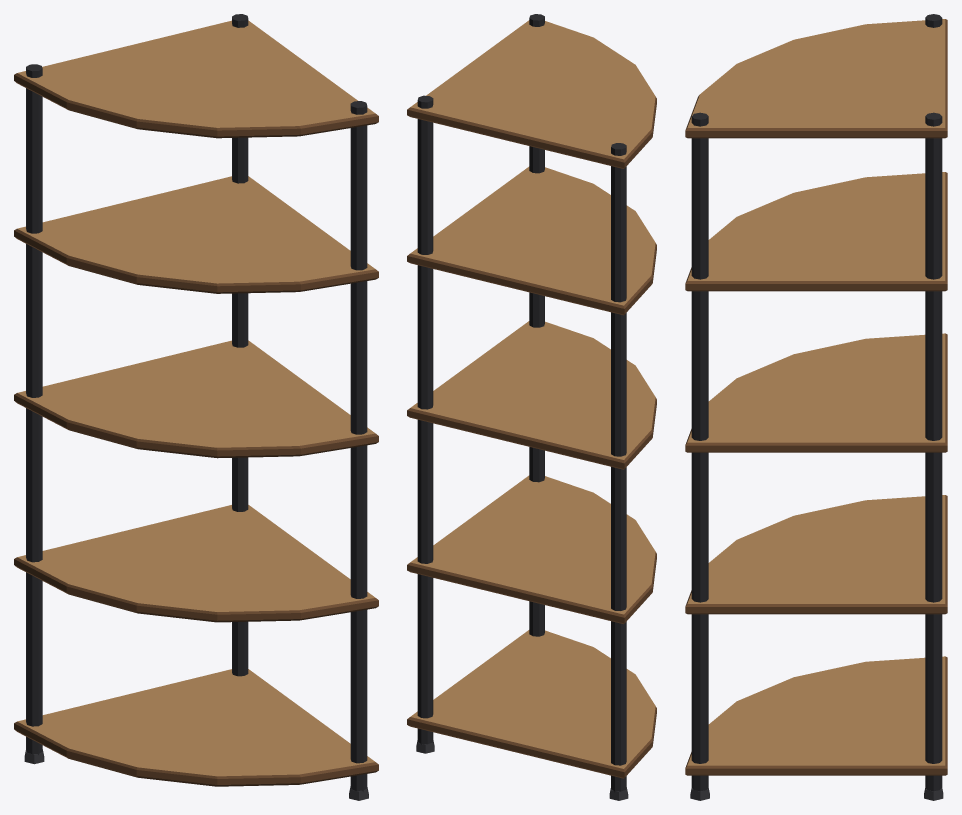
File: FN_Shelf_Corner.obj
3 renders of one model, left to right at view 1: azimuth 30°, elevation 25°; view 2: azimuth 150°, elevation 25°; view 3: azimuth 270°, elevation 25°, orthographic. The views are drawn at different scales.
Visible parts, largest first — view 1: FN_Shelf_Corner; view 2: FN_Shelf_Corner; view 3: FN_Shelf_Corner.
Part boxes in pixels (left/top/right/bottom): FN_Shelf_Corner: left=14, top=14, right=378, bottom=800; FN_Shelf_Corner: left=407, top=14, right=656, bottom=800; FN_Shelf_Corner: left=685, top=14, right=947, bottom=800.
Bounding box in the file's own units: 0.56 × 1.6 × 0.56.
Materials: 1 (1 with a texture image).
